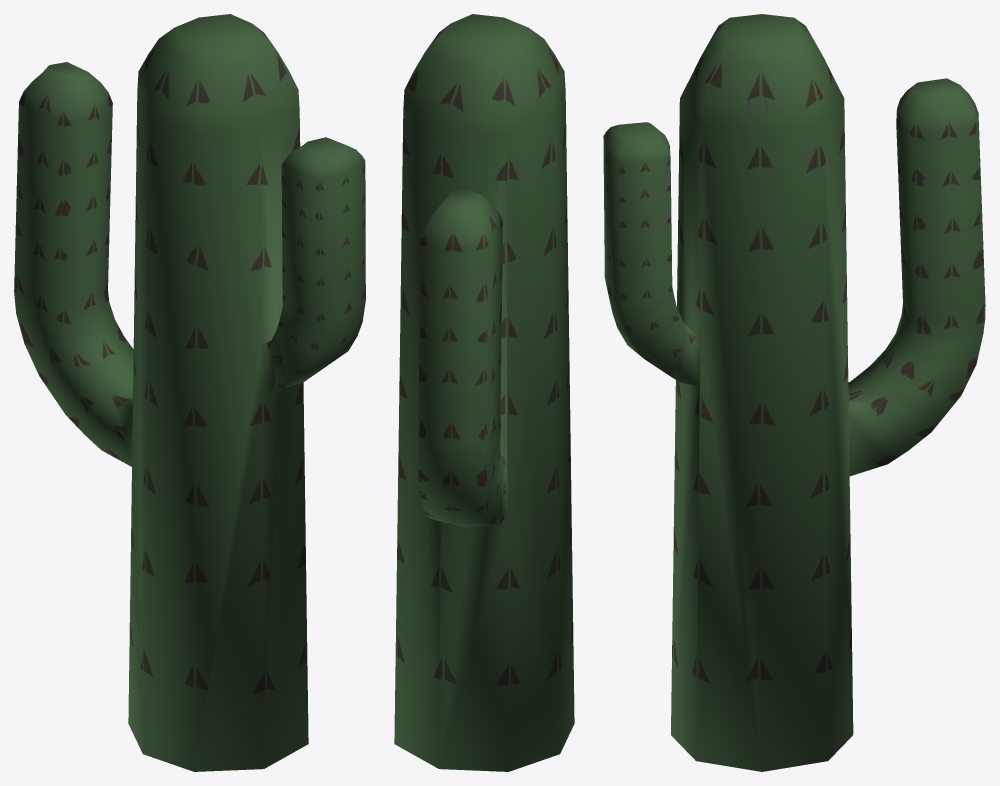
The model's file is cactus-1.glb.
3 renders of one model, left to right at view 1: azimuth 30°, elevation 25°; view 2: azimuth 150°, elevation 25°; view 3: azimuth 270°, elevation 25°, orthographic.
Parts seen in each view (by area): view 1: cactus1; view 2: cactus1; view 3: cactus1.
Boxes of the visible parts, box(x1,y1,x2,y2) form: cactus1: box(14, 14, 365, 771); cactus1: box(394, 14, 574, 771); cactus1: box(603, 14, 985, 771).
Size of the model in its own units: 1.07 by 4.01 by 1.97.
Materials: 1 (1 with a texture image).
